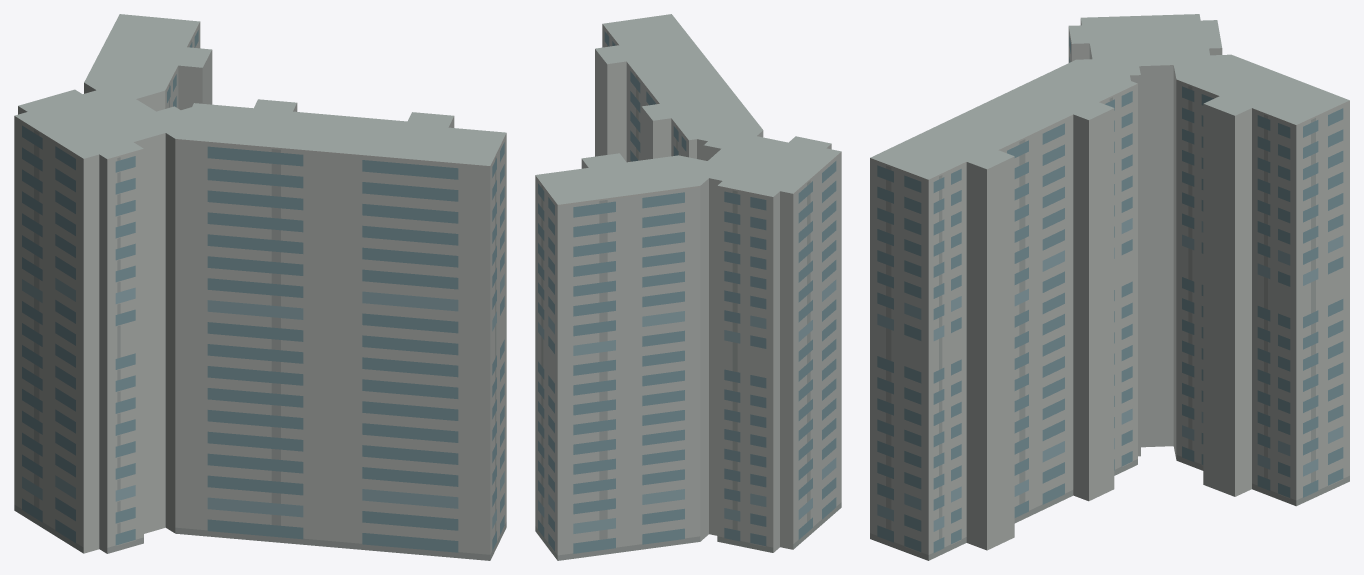
File: residential-0725fac0-86c5-45c1-a8ca-92636bbc112c.glb
3 views of the same model, side by side, from view 1: azimuth 30°, elevation 25°; view 2: azimuth 150°, elevation 25°; view 3: azimuth 270°, elevation 25° (orthographic). The views are drawn at different scales.
Visible parts, largest first — view 1: residential-0725fac0-86c5-45c1-a8ca-92636bbc112c.tmp; view 2: residential-0725fac0-86c5-45c1-a8ca-92636bbc112c.tmp; view 3: residential-0725fac0-86c5-45c1-a8ca-92636bbc112c.tmp.
Boxes of the visible parts, box(x1,y1,x2,y2) form: residential-0725fac0-86c5-45c1-a8ca-92636bbc112c.tmp: box(14, 14, 506, 560); residential-0725fac0-86c5-45c1-a8ca-92636bbc112c.tmp: box(535, 14, 841, 560); residential-0725fac0-86c5-45c1-a8ca-92636bbc112c.tmp: box(870, 14, 1349, 560).
Size of the model in its own units: 51.22 by 54.9 by 62.65.
